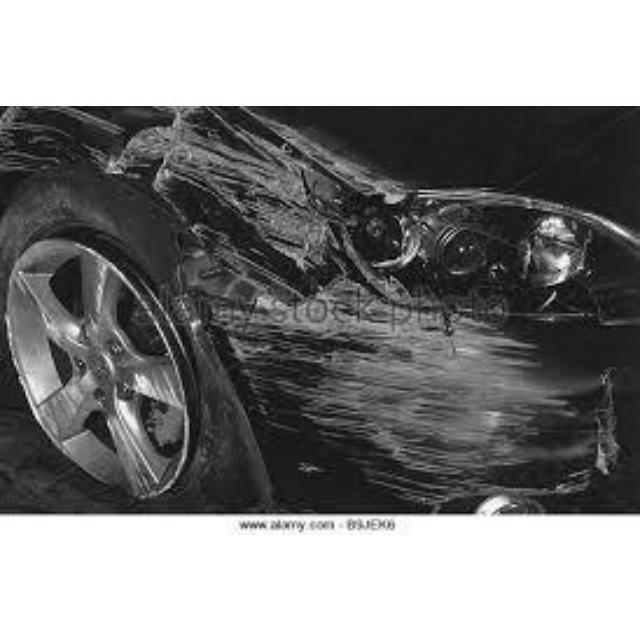Headlight-damage: (293, 134, 638, 325)
front-bumper-dent: (185, 290, 638, 532)
